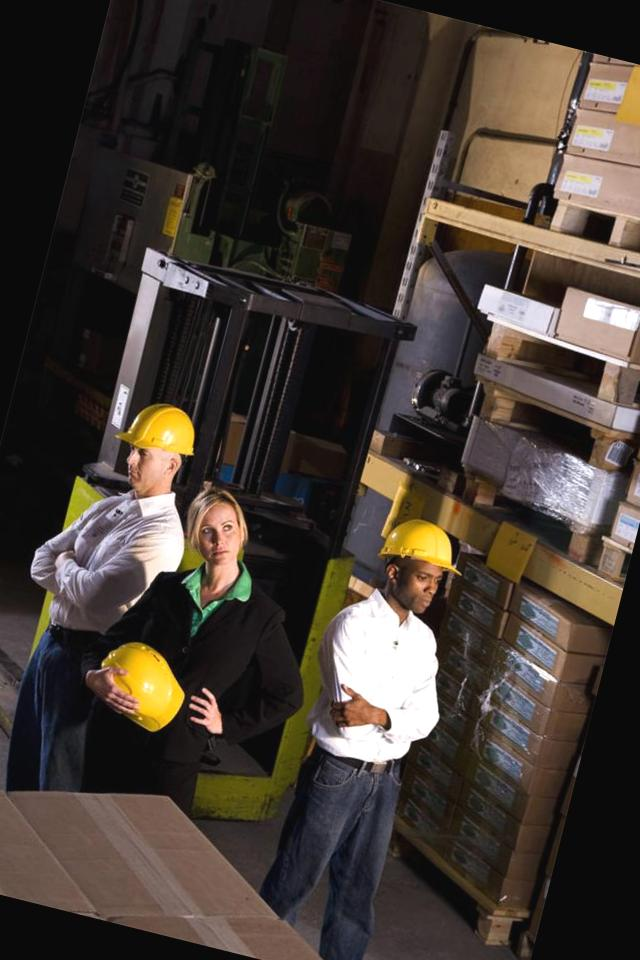no_helmet: (170, 475, 275, 582)
